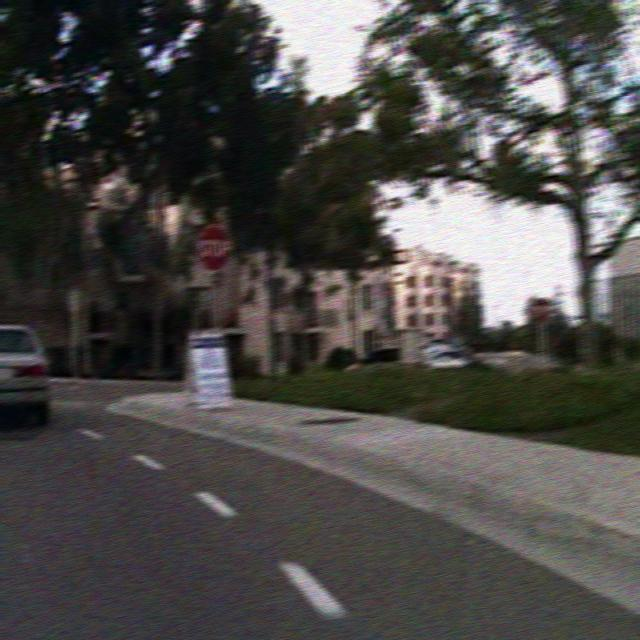stop: (195, 221, 232, 272)
